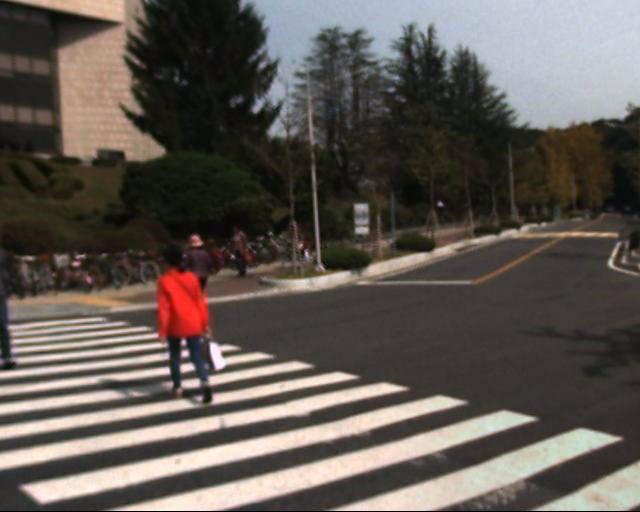person: (132, 226, 226, 413), (0, 209, 58, 363), (173, 226, 213, 327), (224, 215, 271, 288), (281, 214, 319, 285)
